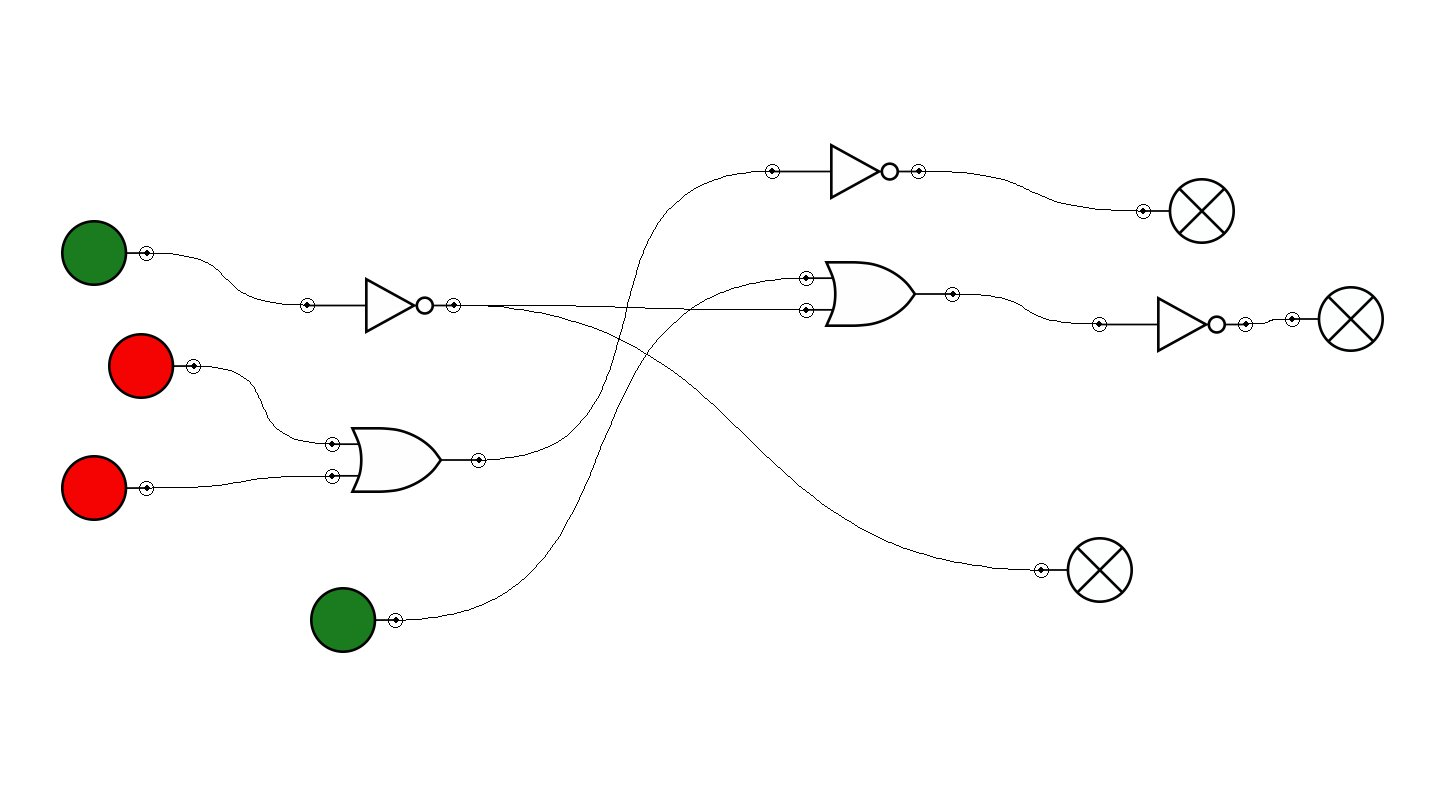bulb: (1285, 286, 1384, 352), (1034, 537, 1133, 603), (1136, 178, 1235, 244)
not: (1092, 296, 1253, 353), (300, 277, 461, 334), (765, 143, 926, 200)
or: (325, 427, 486, 493), (799, 261, 960, 327)
switch_False: (108, 333, 201, 399), (61, 455, 154, 521)
switch_True: (61, 220, 154, 286), (310, 587, 403, 653)
